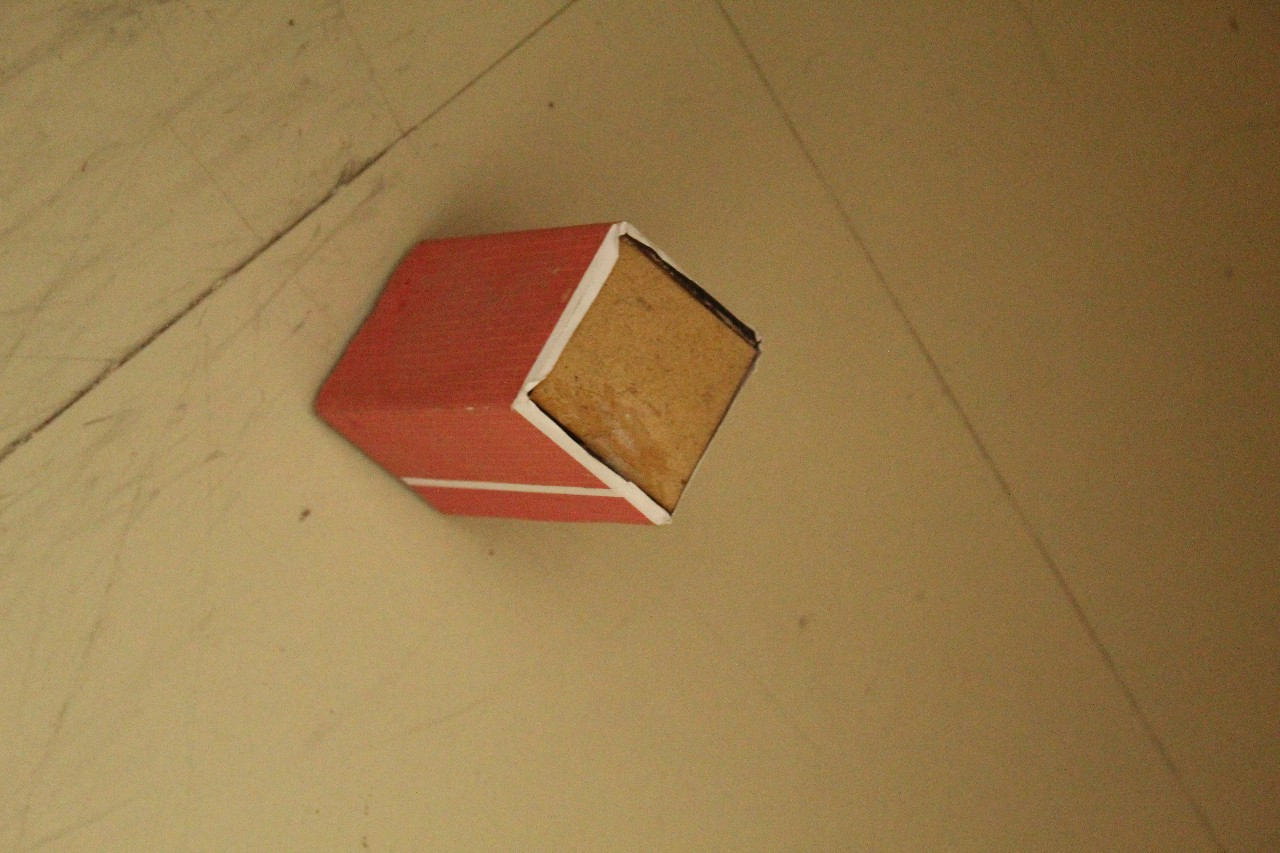red: (291, 186, 781, 544)
